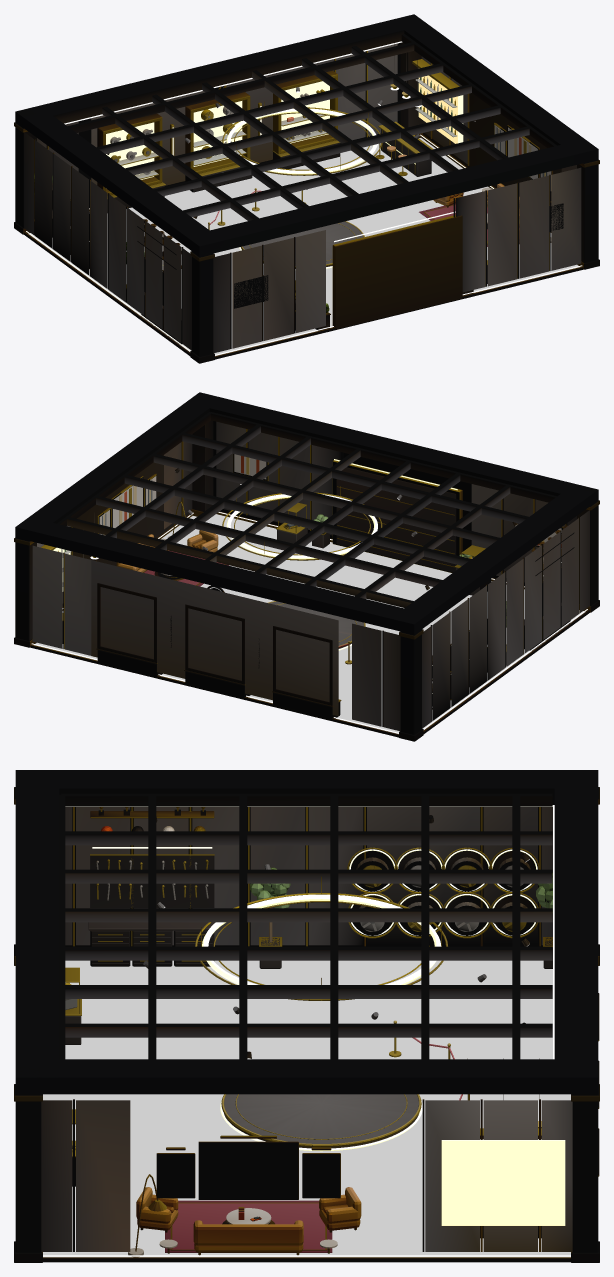
Rendered from modgarage.glb.
3 views of the same model, one above another, from view 1: azimuth 30°, elevation 25°; view 2: azimuth 150°, elevation 25°; view 3: azimuth 270°, elevation 25° (orthographic). The views are drawn at different scales.
Visible parts, largest first — view 1: Shell, Props, Ceiling, Floor, TableTop; view 2: Shell, Props, Ceiling, Floor, TableTop; view 3: Shell, Ceiling, Props, Floor, TableTop, TableBody.
Boxes of the visible parts, x1,y1,x2,y2 form: Shell: (14,14,599,363); Props: (34,43,563,344); Ceiling: (68,34,556,220); Floor: (28,138,579,355); TableTop: (242,221,363,265); Shell: (14,392,599,741); Props: (41,454,574,720); Ceiling: (57,412,556,607); Floor: (34,514,585,733); TableTop: (269,601,363,645); Shell: (14,770,599,1262); Ceiling: (59,793,552,1059); Props: (65,807,599,1257); Floor: (43,960,570,1257); TableTop: (224,1094,418,1143); TableBody: (220,1094,422,1151).
Bounding box in the file's own units: 20.1 × 5.6 × 16.1.
